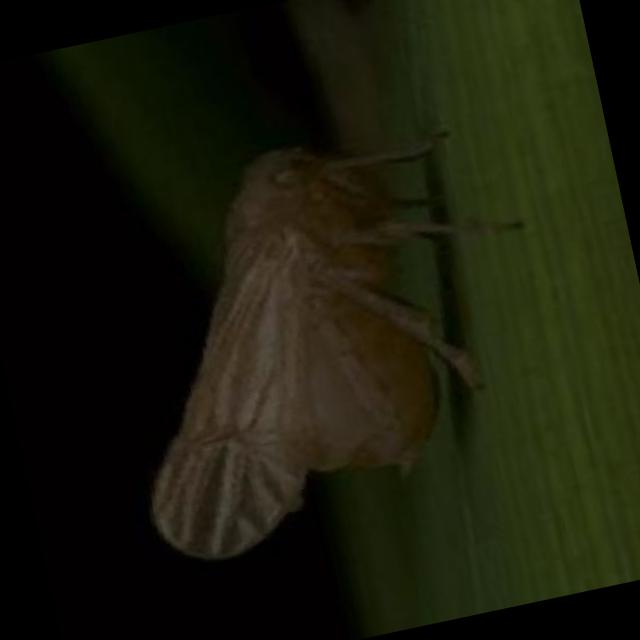brown-planthopper: (88, 116, 482, 568)
